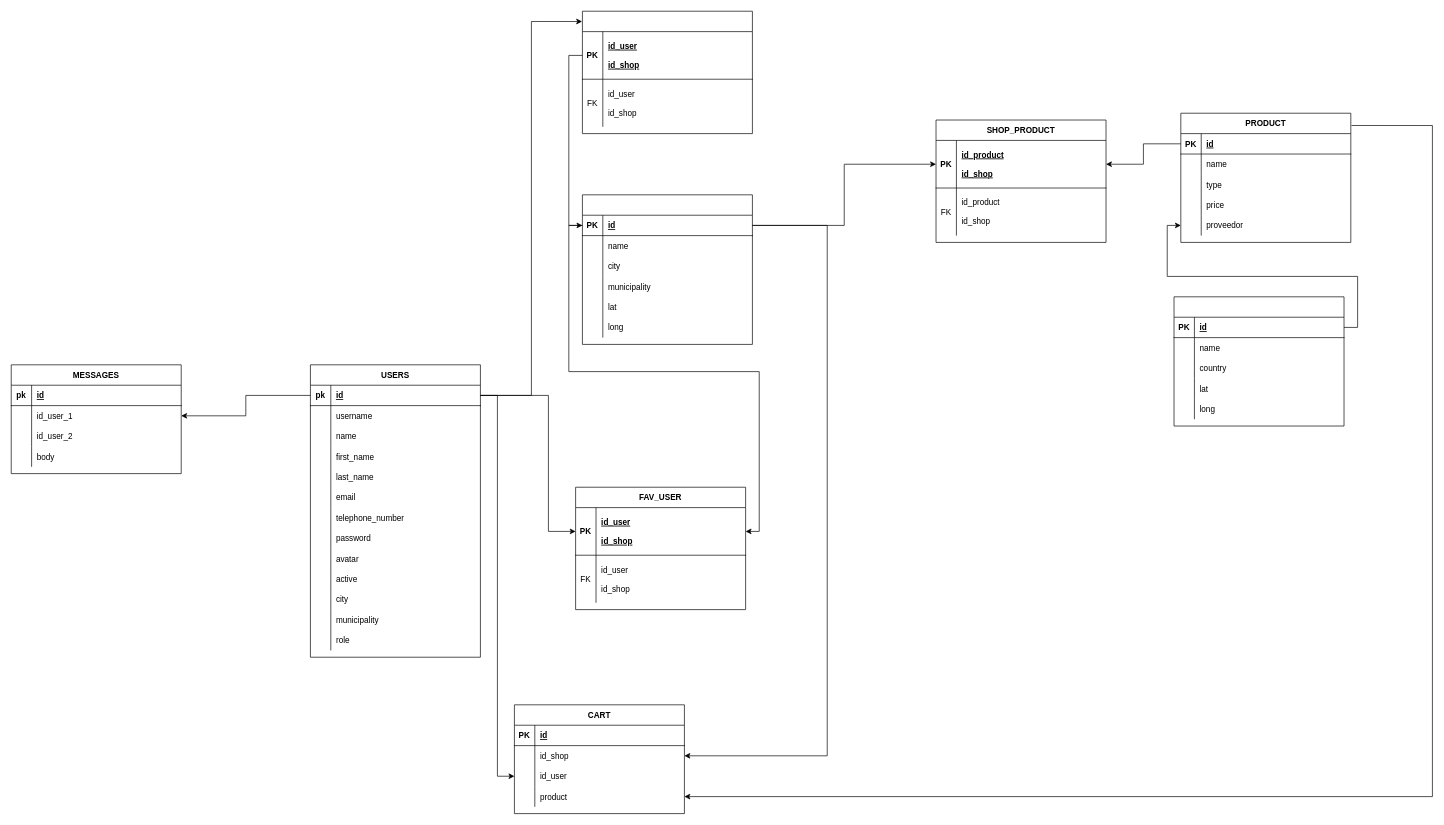
This 1444x825 diagram has some shape labels left out. The shapes that lost their labels are listed below. From the top down, each one's box as (x1, y1, x2, y2) in pixels, then its label:
(582, 11, 752, 134): TRADER_SHOP
(582, 194, 752, 344): SHOP
(1173, 296, 1344, 426): SUPPLIER
